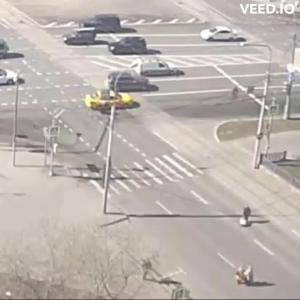car: (110, 73, 159, 95), (86, 91, 136, 112), (111, 38, 161, 57), (87, 14, 128, 35), (202, 26, 248, 44), (140, 62, 185, 80), (65, 29, 97, 47), (1, 69, 18, 86)
